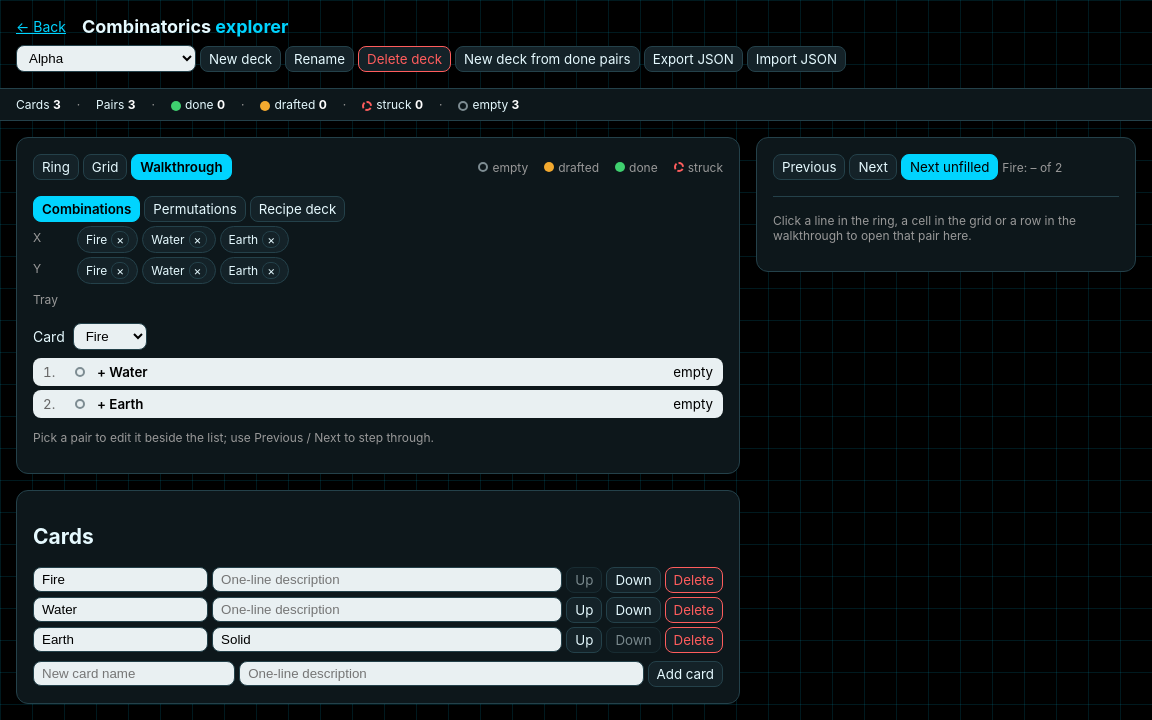
CombinationsPage walkthrough › Next and Previous open the matching pair and wrap
The width and height of the screenshot is (1152, 720).
Click the button "Next" at (873, 167), box [850,154,897,180]
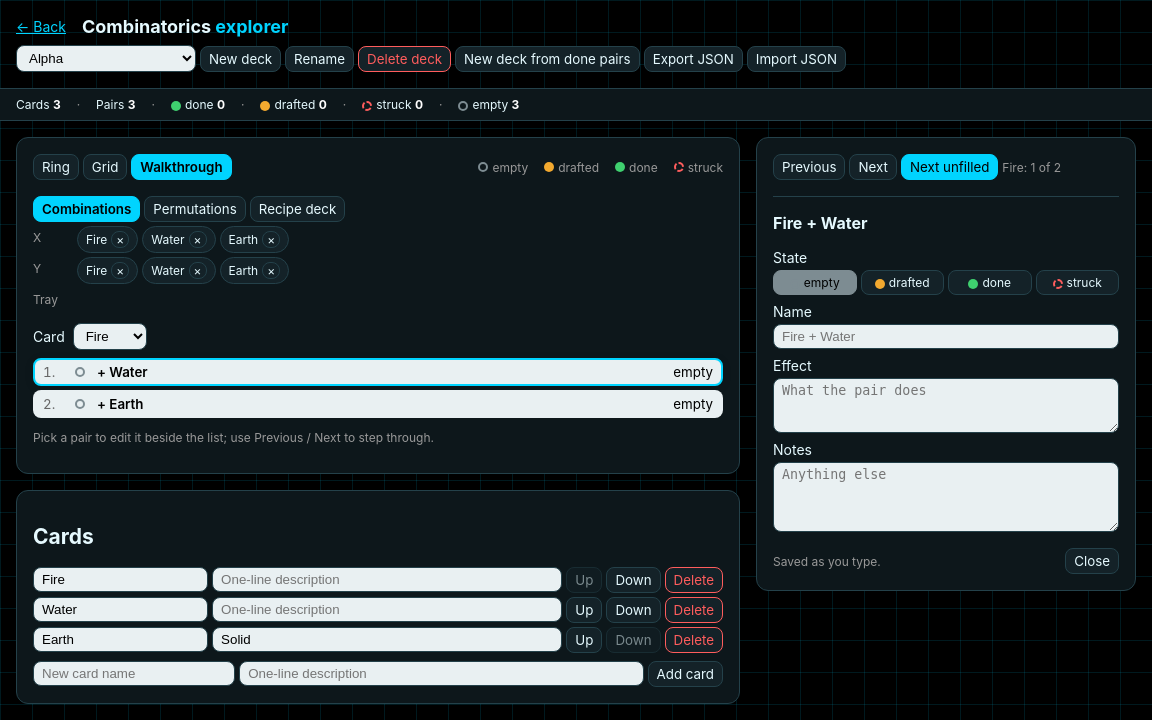
Expected: the button with class "sel" shows "+ Water", [33,358,723,386]
Expected: the text "Fire: 1 of 2" is shown, [1002,160,1061,174]
Click the button "Previous" at (809, 167), box [773,154,846,180]
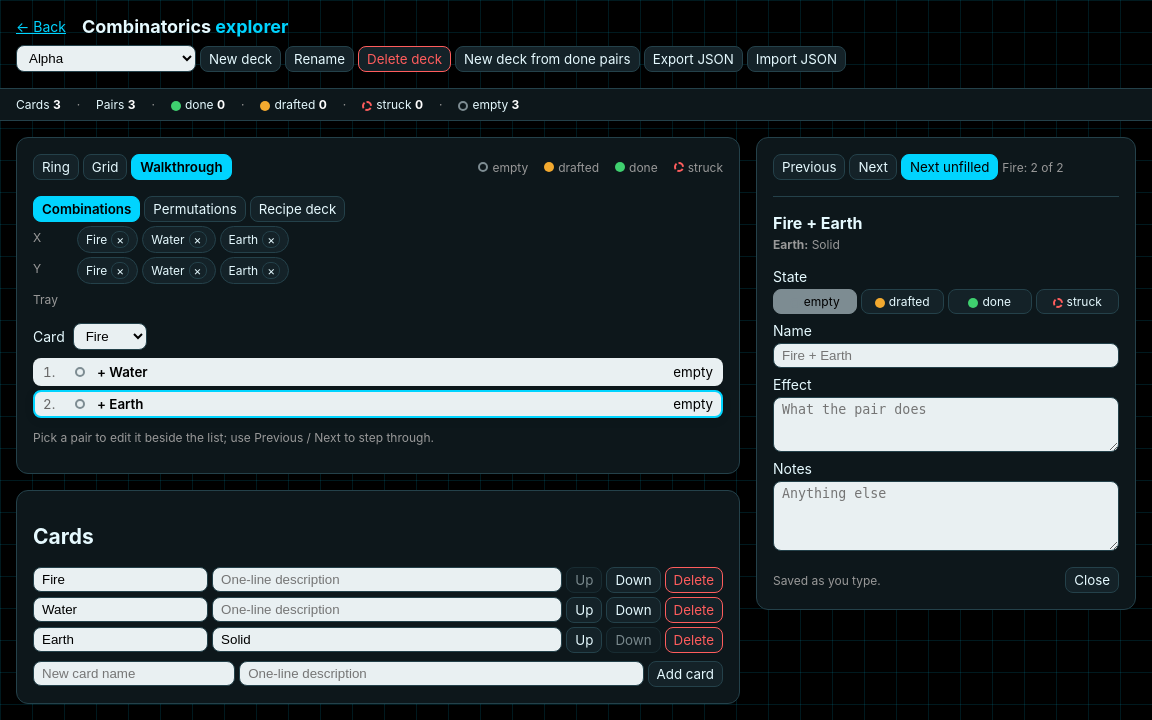
Expected: the text "Fire: 2 of 2" is shown, [1002,160,1064,174]
Click the button "Next" at (873, 167), box [850,154,897,180]
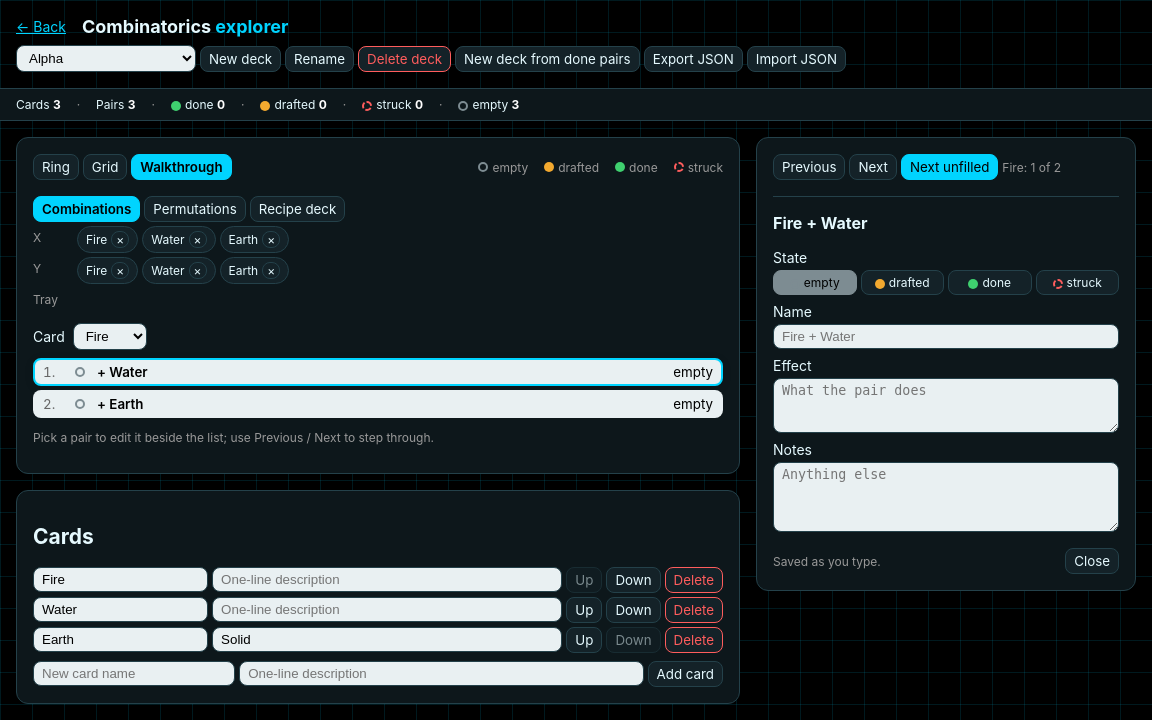
Expected: the text "Fire: 1 of 2" is shown, [1002,160,1061,174]
